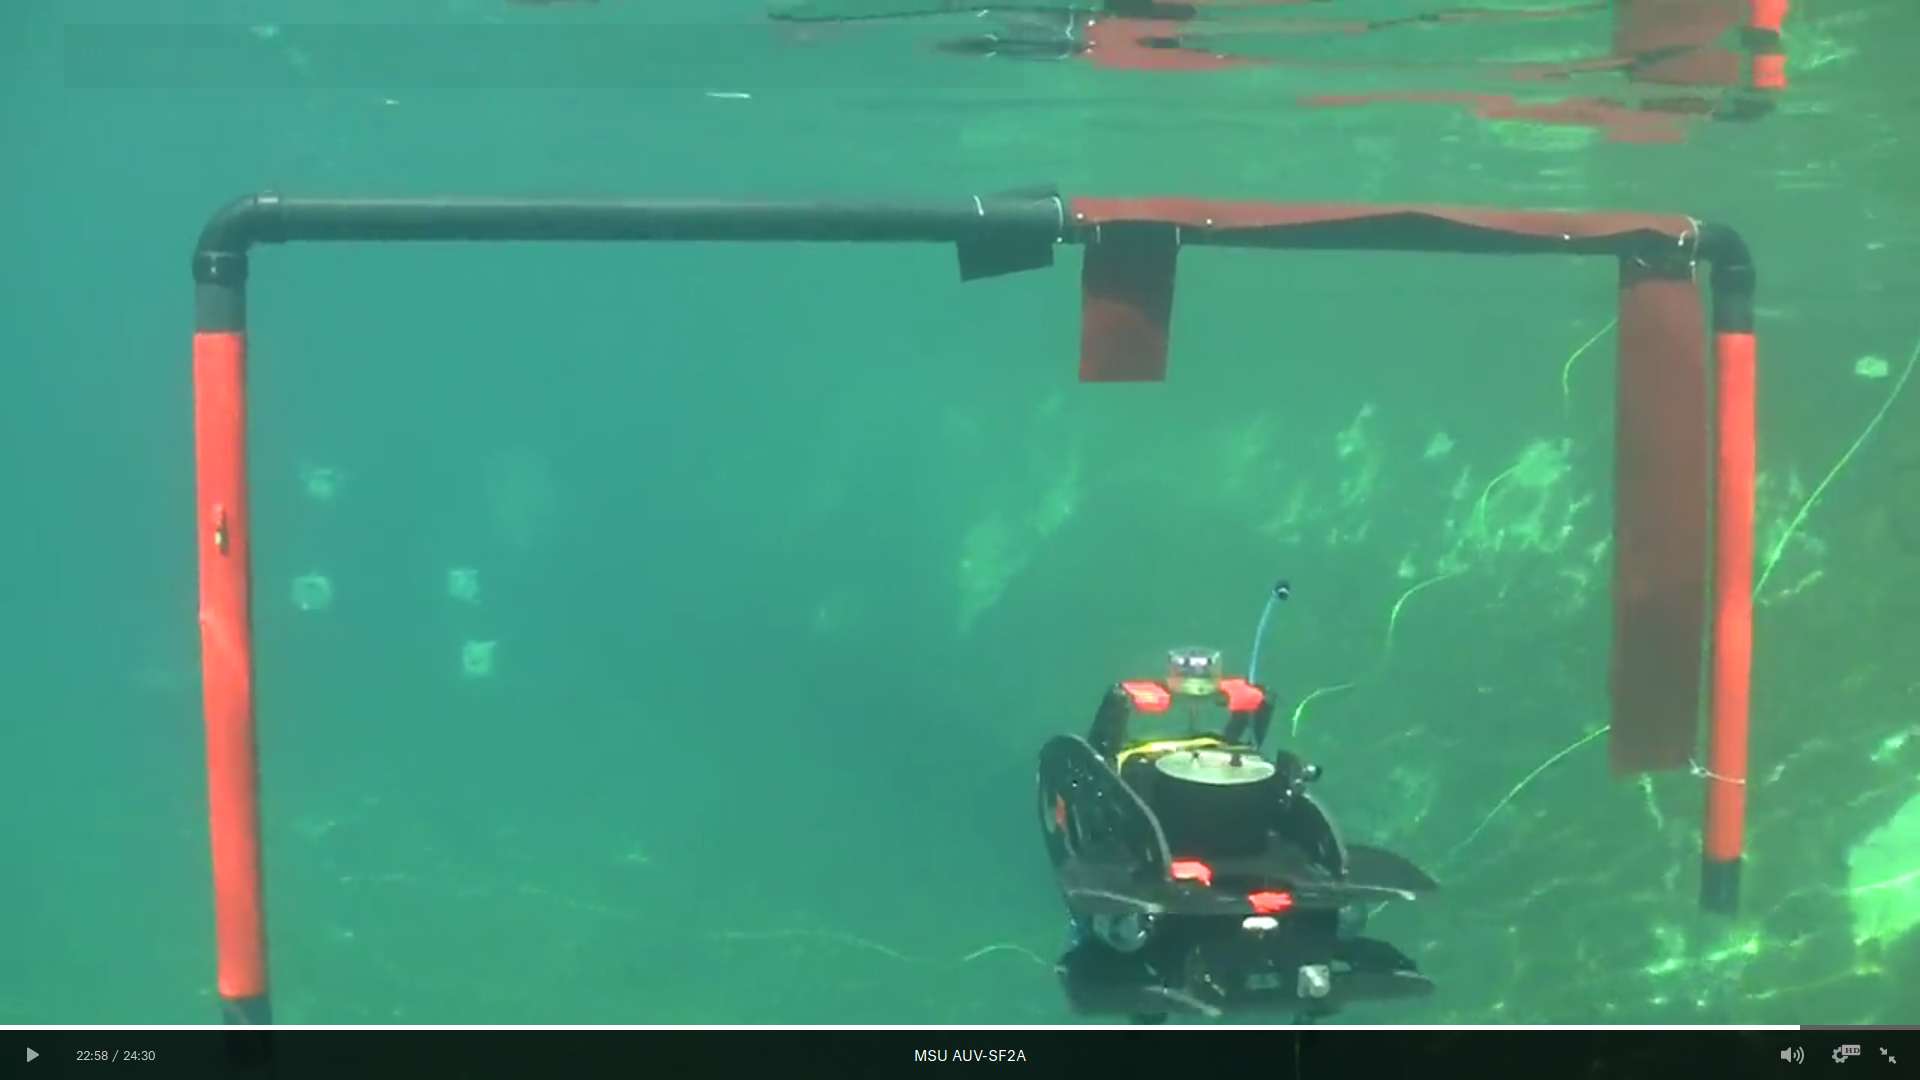gate: (177, 169, 1766, 776)
